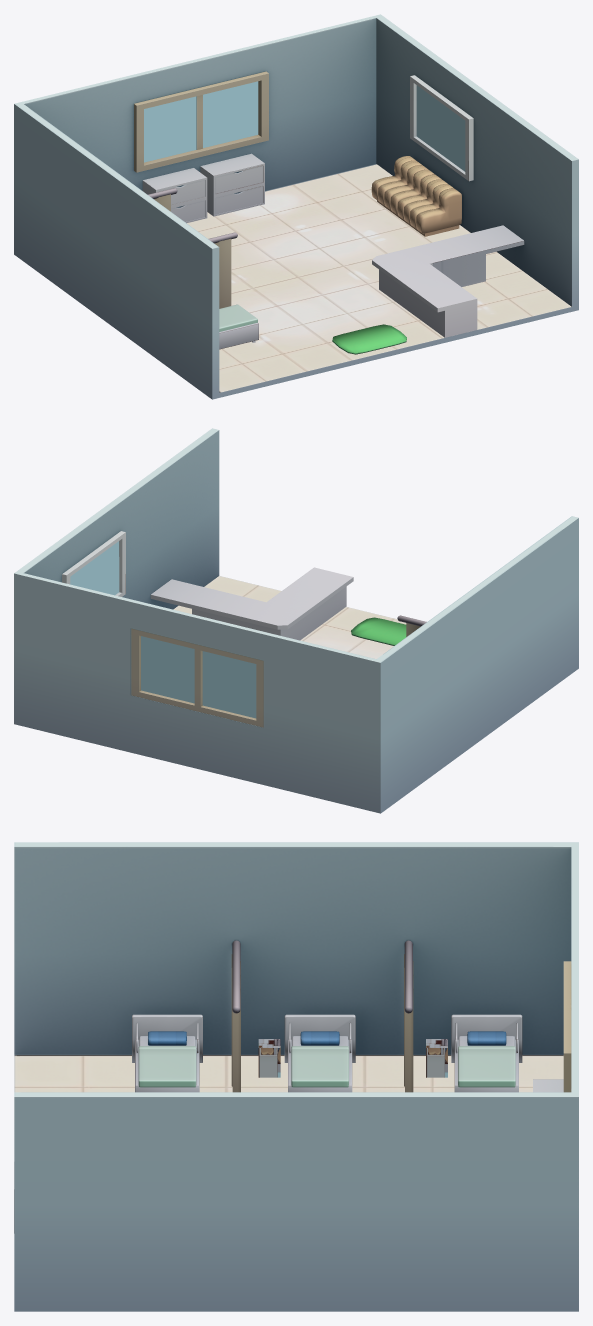
Rendered from clinic.fbx.
The picture shows the model from 3 angles, top to bottom: view 1: azimuth 30°, elevation 25°; view 2: azimuth 150°, elevation 25°; view 3: azimuth 270°, elevation 25°; orthographic projection. The views are drawn at different scales.
Visible parts, largest first — view 1: Plane; view 2: Plane; view 3: Plane.
Part boxes in pixels (bbox=[...]): Plane: bbox=[14, 14, 578, 399]; Plane: bbox=[14, 428, 578, 813]; Plane: bbox=[14, 842, 578, 1311].
Bounding box in the file's own units: 2090 × 821 × 1958.
2 materials, 2 textured.
